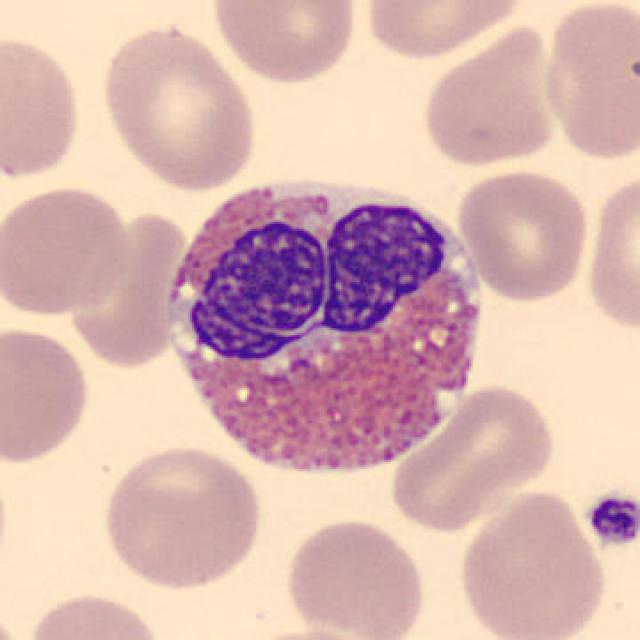Eosinophil: (146, 154, 503, 496)
Platelets: (583, 488, 638, 552)
RBC: (96, 19, 261, 194), (384, 381, 560, 534), (98, 441, 265, 592), (453, 486, 609, 640), (418, 19, 562, 171), (64, 215, 196, 374), (453, 164, 594, 305), (0, 180, 135, 319), (281, 515, 430, 640), (537, 0, 638, 164), (208, 0, 362, 86), (0, 30, 85, 185), (0, 322, 92, 465), (361, 0, 526, 62), (583, 165, 640, 338), (23, 589, 169, 640), (226, 626, 391, 640)
